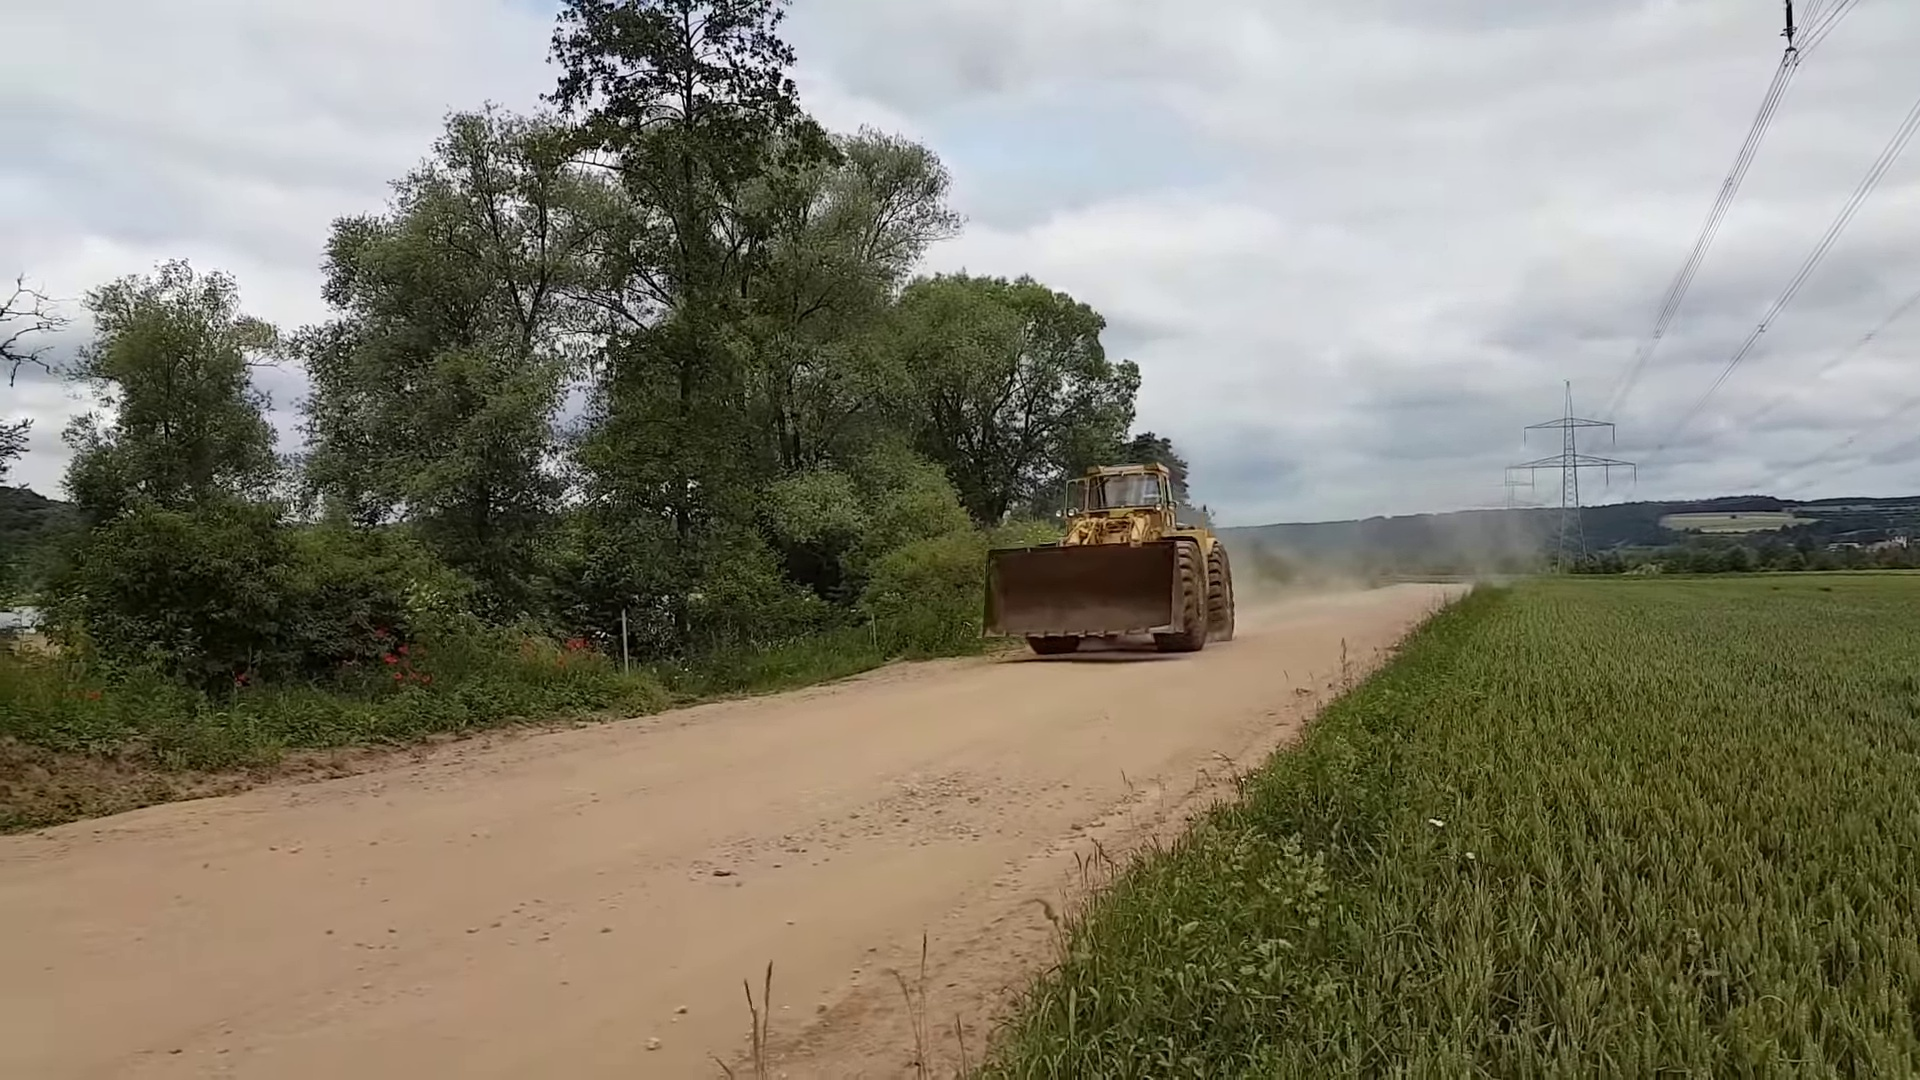wheel loader: (980, 464, 1247, 651)
